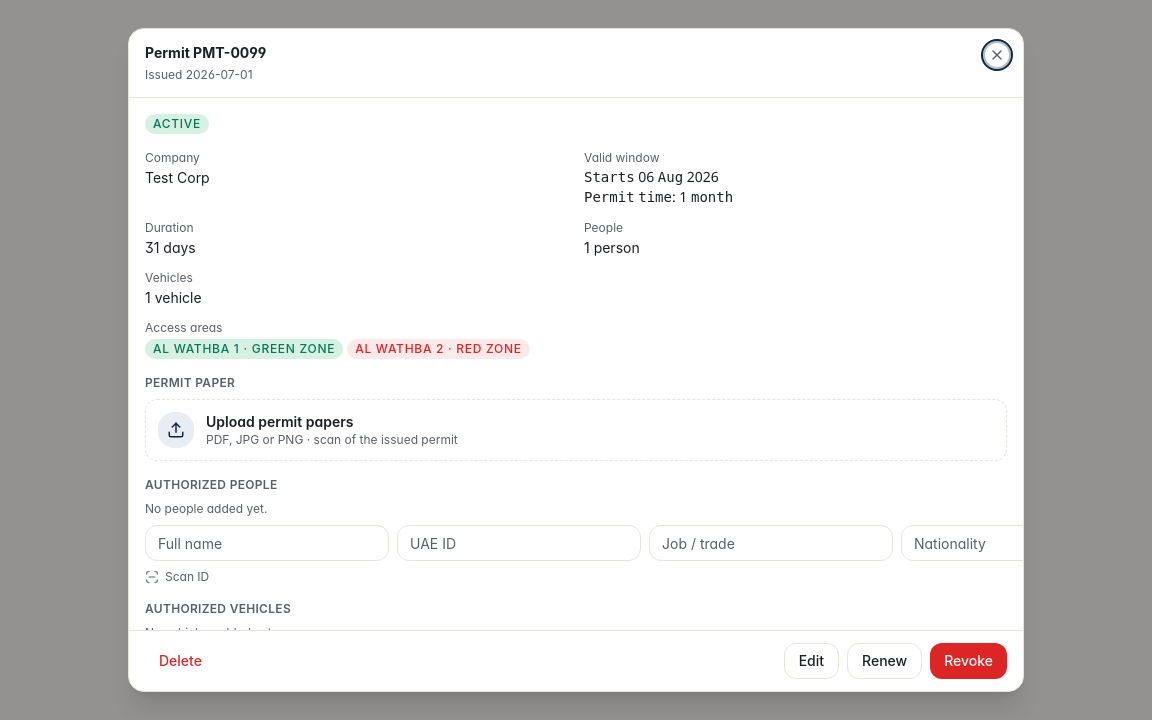
Test: exposes renewal validity choices as a named group
Expected: the text "Test Corp" is shown, [145,169,210,186]
Click the button "Renew": {"x": 885, "y": 661} [847,643,922,679]
(page scrolled)
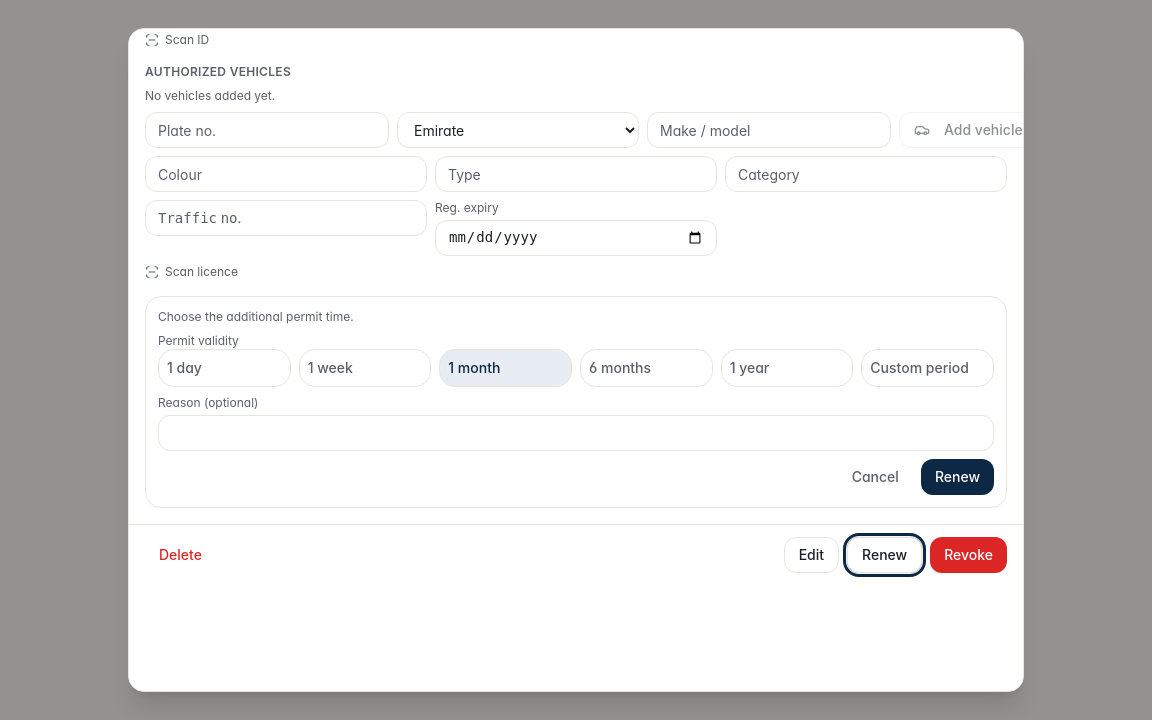
Expected: the element "Permit validity" is shown, [158,333,994,387]
